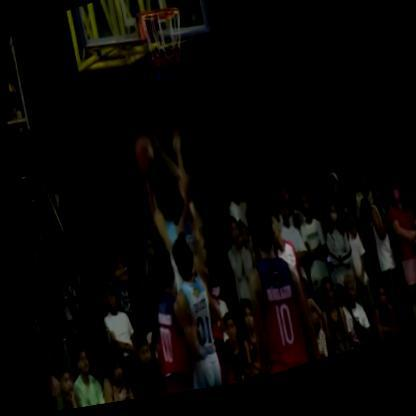basketball: (125, 130, 158, 187)
rim: (133, 0, 197, 105)
